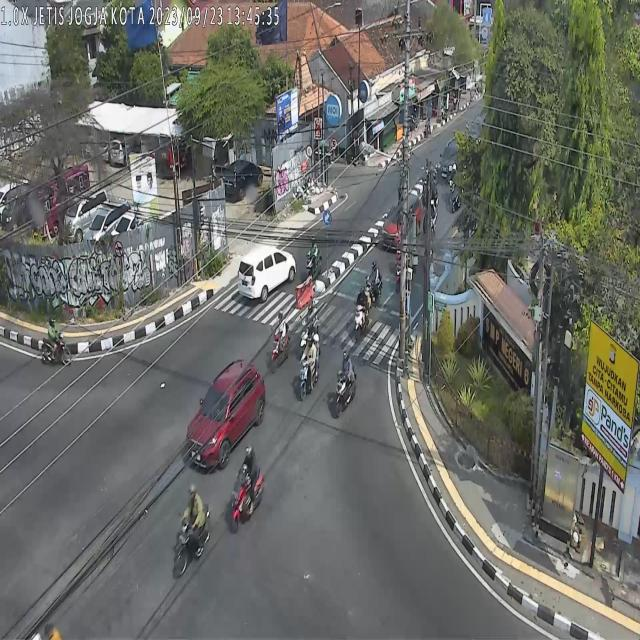car: (187, 356, 268, 472), (239, 251, 298, 304), (379, 192, 424, 255), (436, 129, 472, 178)
motorcycle: (175, 481, 210, 584), (232, 438, 261, 532), (40, 311, 74, 369), (297, 332, 319, 400), (334, 345, 356, 411), (272, 306, 290, 368), (354, 286, 370, 341), (304, 237, 319, 280), (367, 265, 381, 304)
